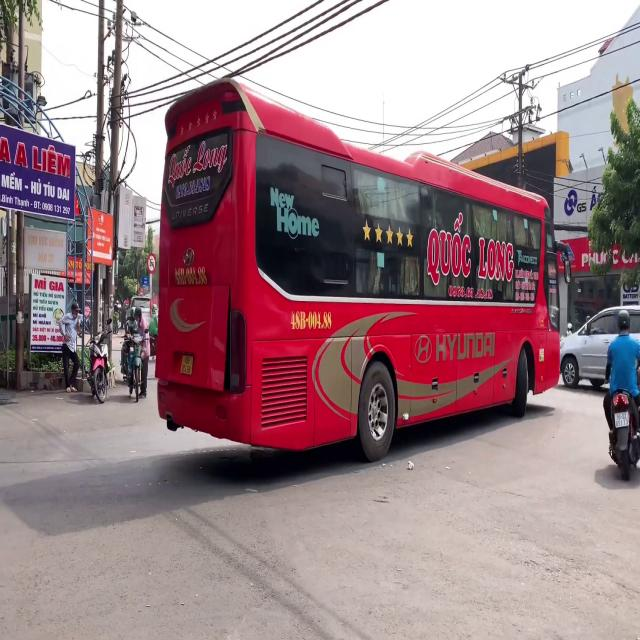bien_vang: (180, 355, 193, 374)
